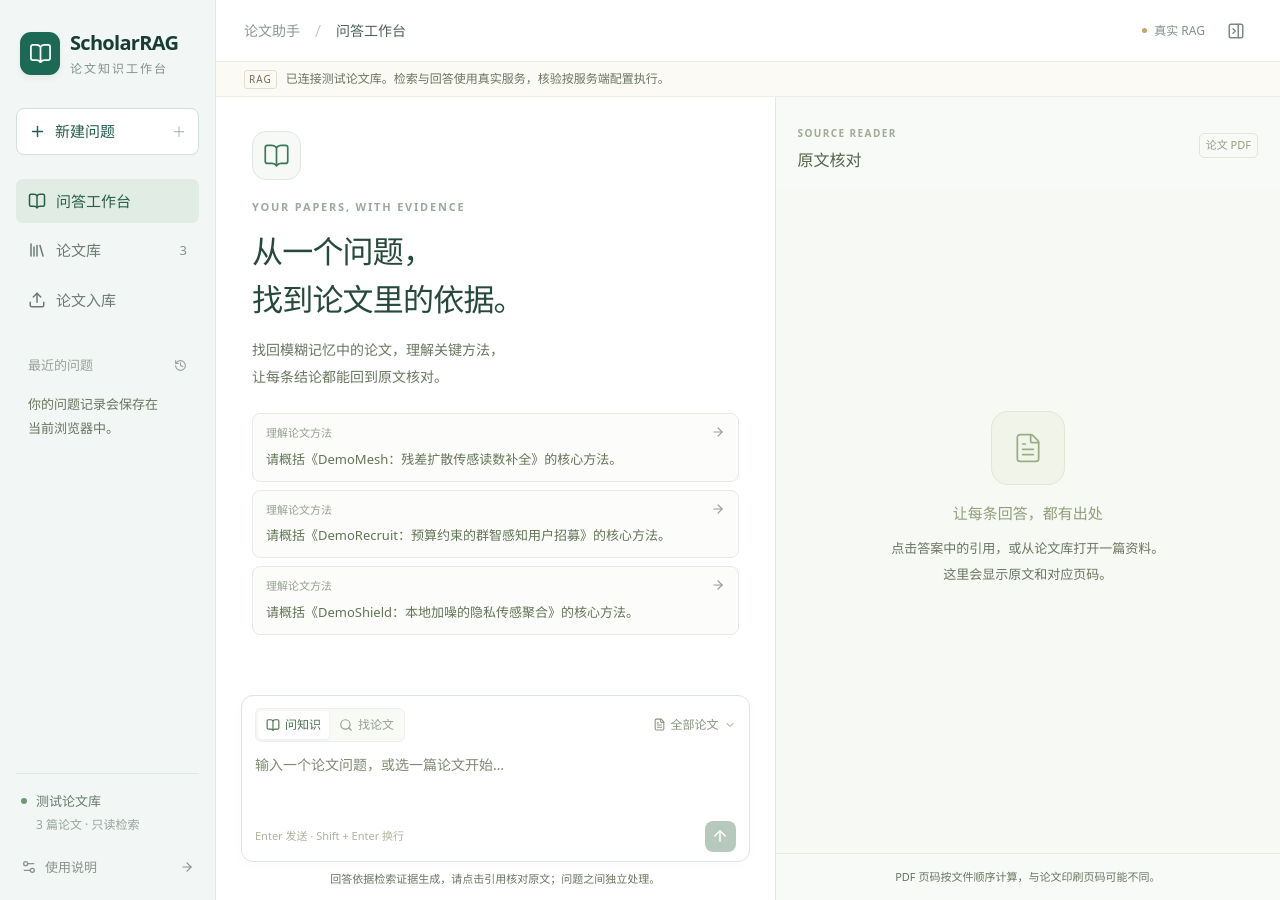
Scenario: live RAG workspace › shows a server failure rather than substituting a successful demo answer
Type "这个不是预设示例的问题" into the text box named "输入你的论文问题" at (495, 786), box [255, 752, 736, 820]
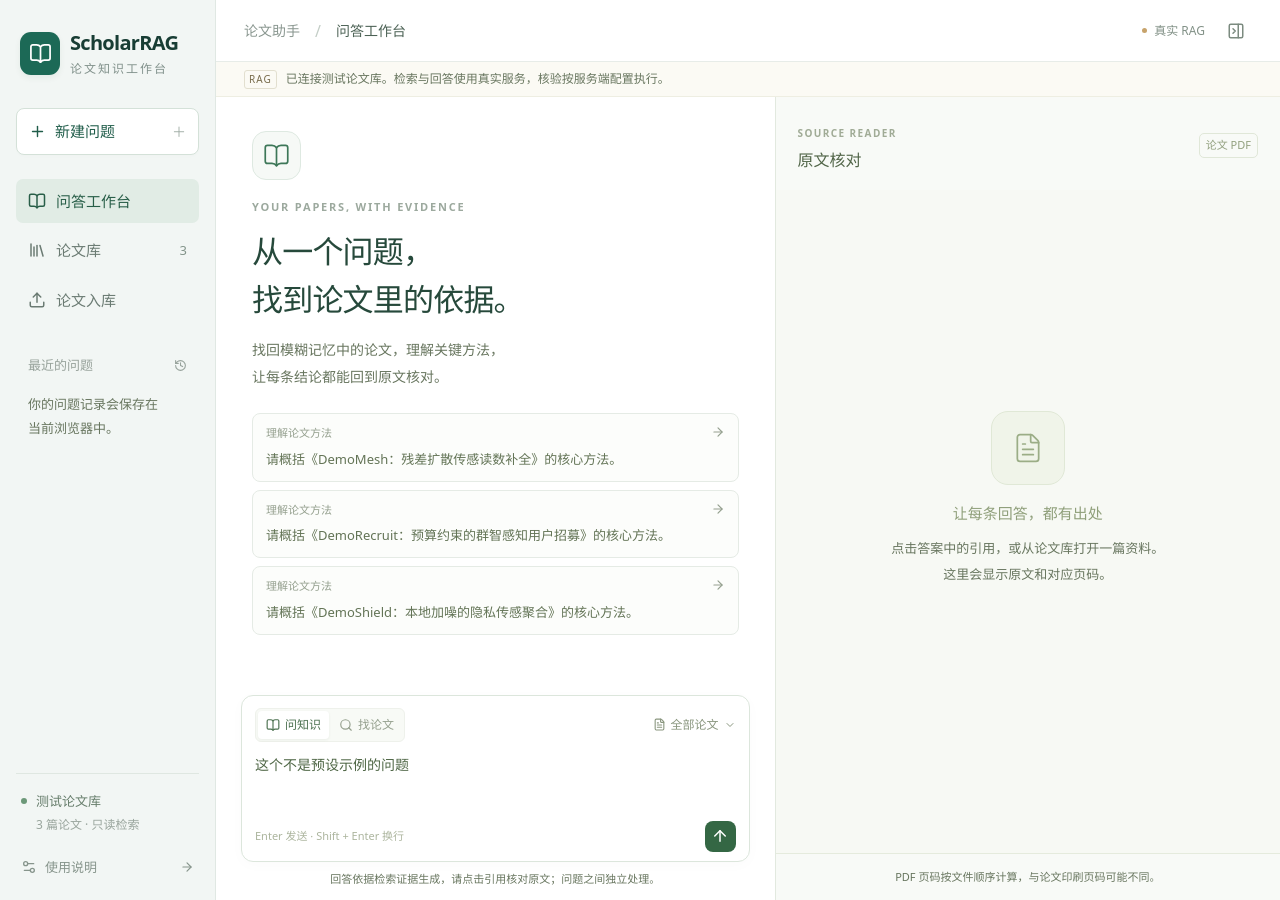
Click the button named "提交问题" at (720, 836), box [705, 820, 736, 852]
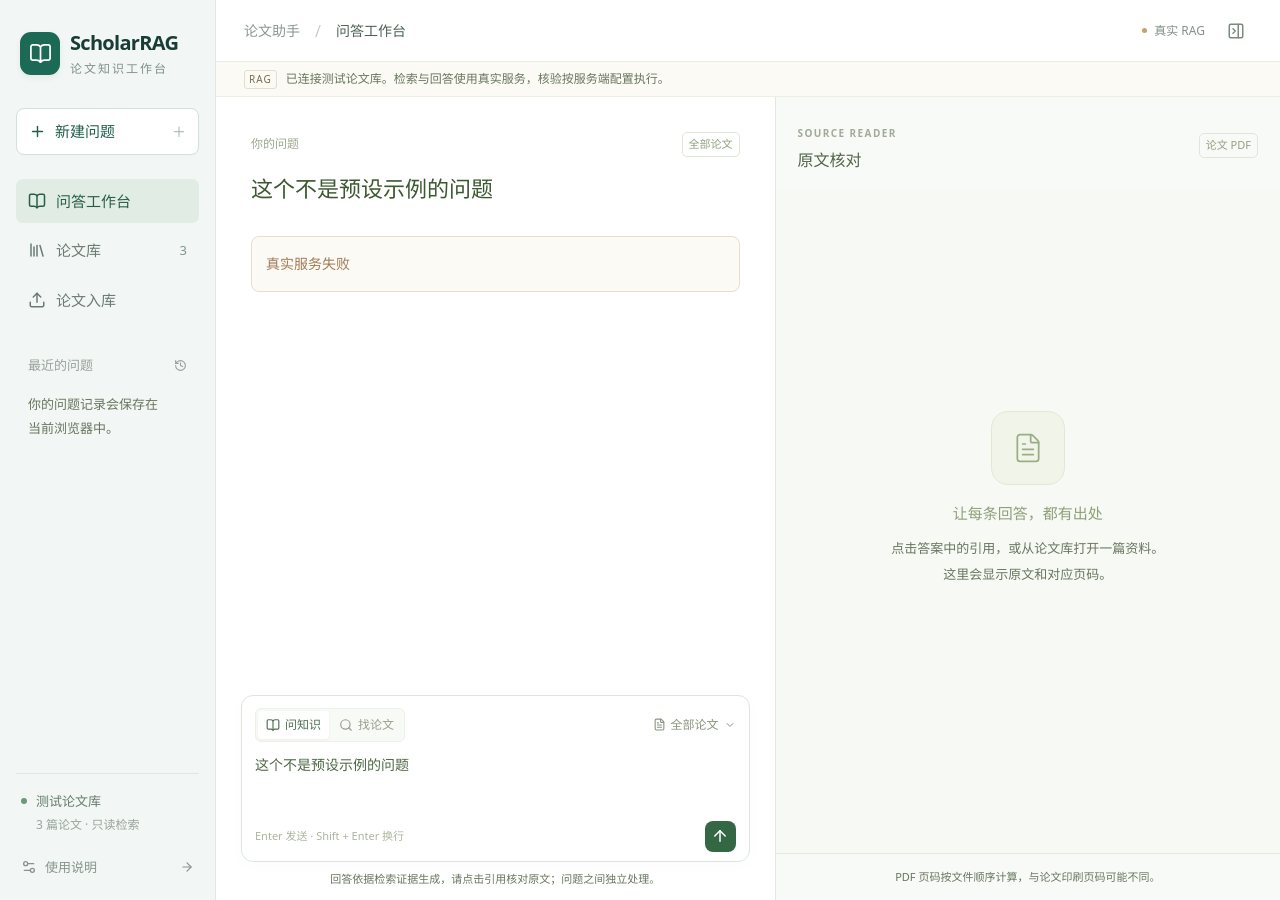
Now the text "真实服务失败" is shown, box [251, 236, 740, 292]
